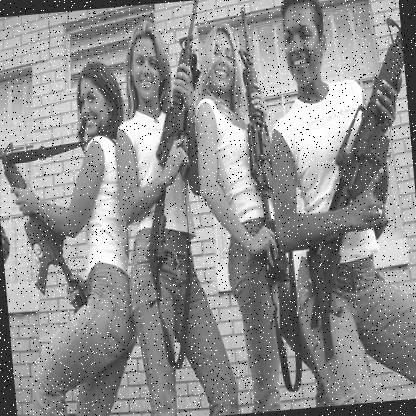rifle: (283, 0, 416, 307), (122, 0, 231, 299), (0, 103, 92, 320), (233, 1, 293, 281)
